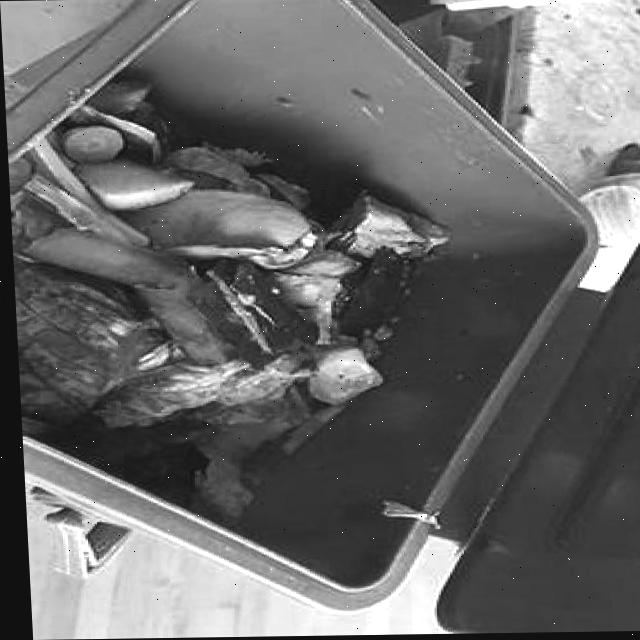Garbage: (7, 72, 448, 515)
Plastic_Bag: (334, 248, 414, 339)
